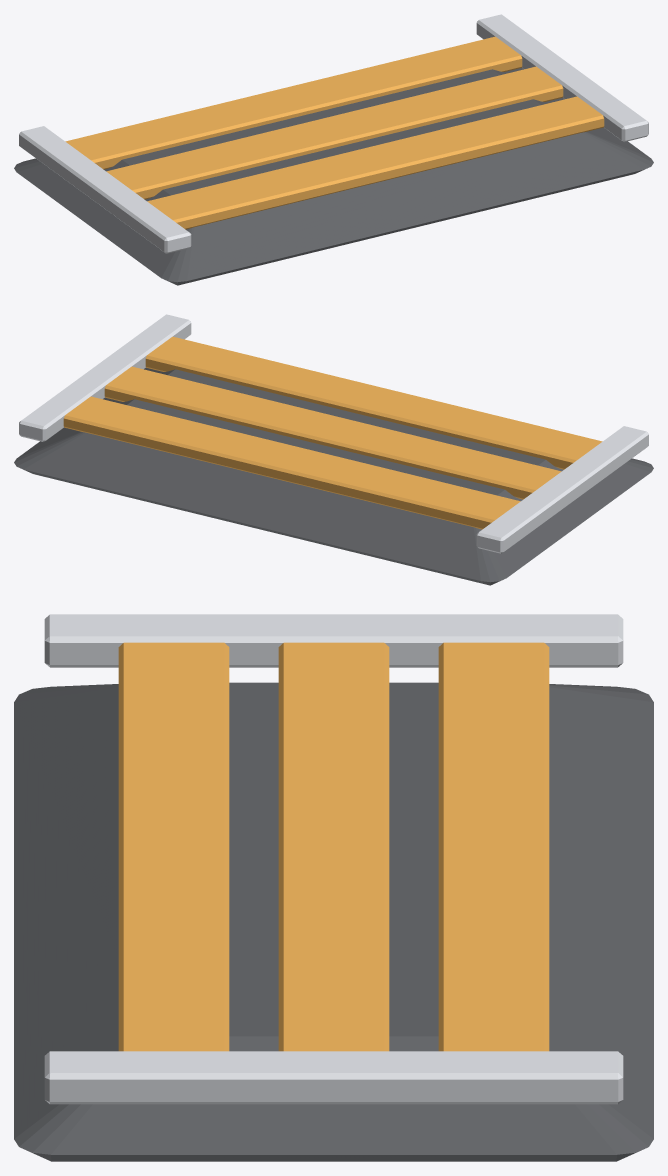
The model's file is 35509_Cable_Ramp__TV_Studio_and_Broadcast_Gallery_.glb.
3 renders of one model, top to bottom at view 1: azimuth 30°, elevation 25°; view 2: azimuth 150°, elevation 25°; view 3: azimuth 270°, elevation 25°, orthographic. The views are drawn at different scales.
Visible parts, largest first — view 1: cable-ramp; view 2: cable-ramp; view 3: cable-ramp.
Part boxes in pixels (x1,y1,x2,y2): cable-ramp: (14,14,653,285); cable-ramp: (14,314,653,585); cable-ramp: (14,614,653,1161).
Size of the model in its own units: 0.9 by 0.089 by 0.5201.
